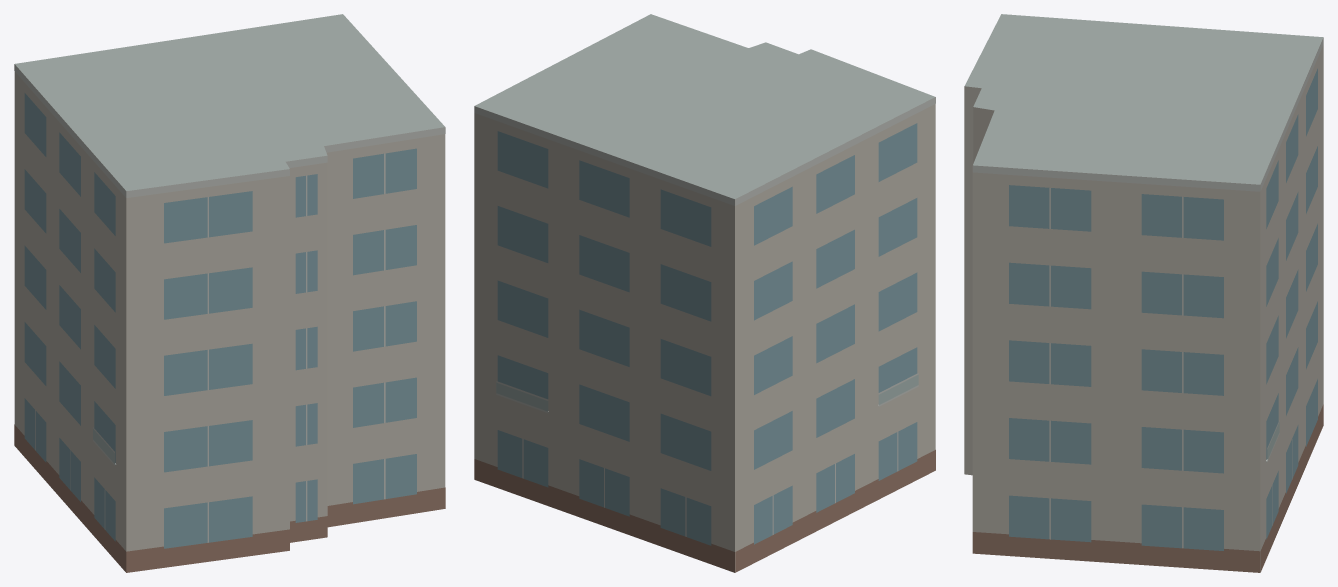
File: survey-upis-33009053.glb
3 renders of one model, left to right at view 1: azimuth 30°, elevation 25°; view 2: azimuth 150°, elevation 25°; view 3: azimuth 270°, elevation 25°, orthographic. The views are drawn at different scales.
Visible parts, largest first — view 1: survey-upis-33009053.tmp; view 2: survey-upis-33009053.tmp; view 3: survey-upis-33009053.tmp.
Part boxes in pixels (x1,y1,x2,y2): survey-upis-33009053.tmp: (14,14,445,572); survey-upis-33009053.tmp: (474,14,935,572); survey-upis-33009053.tmp: (964,14,1323,572).
Bounding box in the file's own units: 12.65 × 13.4 × 11.25.
